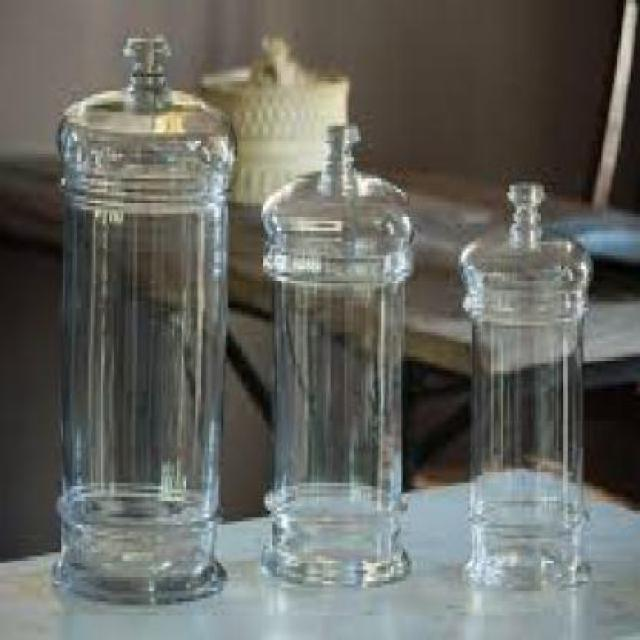kaca: (54, 36, 226, 602), (258, 118, 412, 584), (457, 178, 586, 588)
